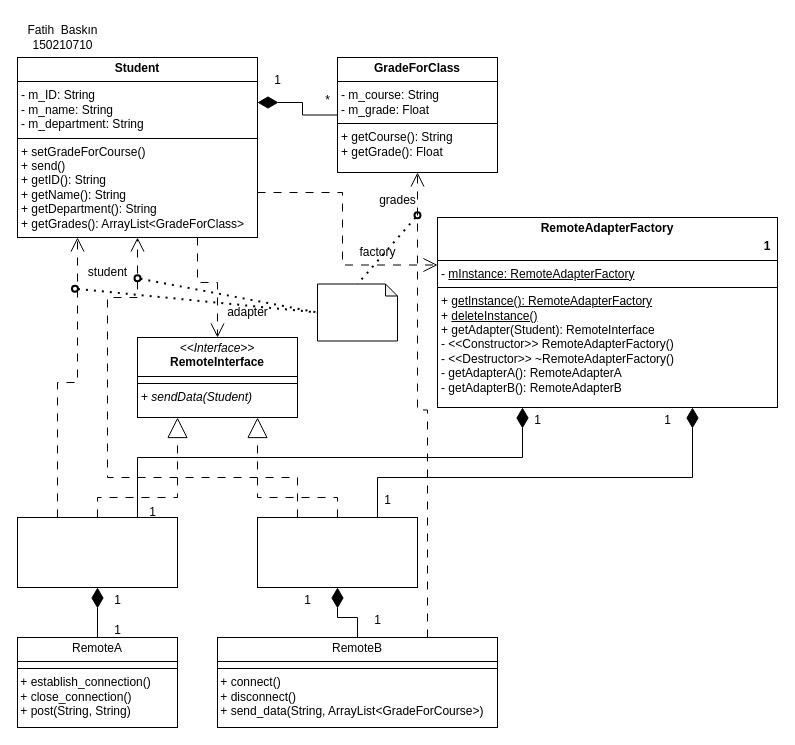
The diagram is 795 pixels wide and 745 high, and some of its shapes have lost their labels. The box of each missing label's shape, as (x1, y1, x2, y2) in pixels:
Parameter Visibility: (316, 283, 398, 341)
RemoteAdapterA + sendData(Student): (16, 516, 178, 588)
RemoteAdapterB + sendData(Student): (256, 516, 418, 588)
